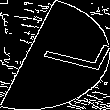L_W: (12, 32, 98, 78)
